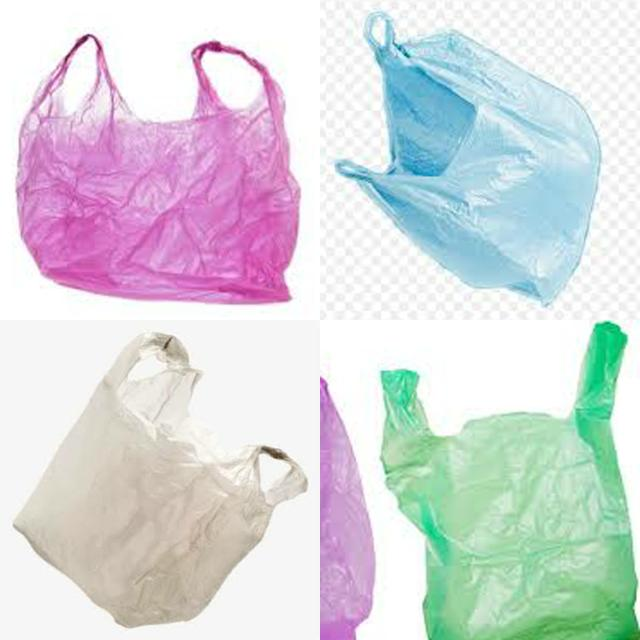Single-layer Plastic: (15, 332, 306, 626), (381, 322, 640, 639), (336, 12, 600, 305), (16, 35, 300, 302)
